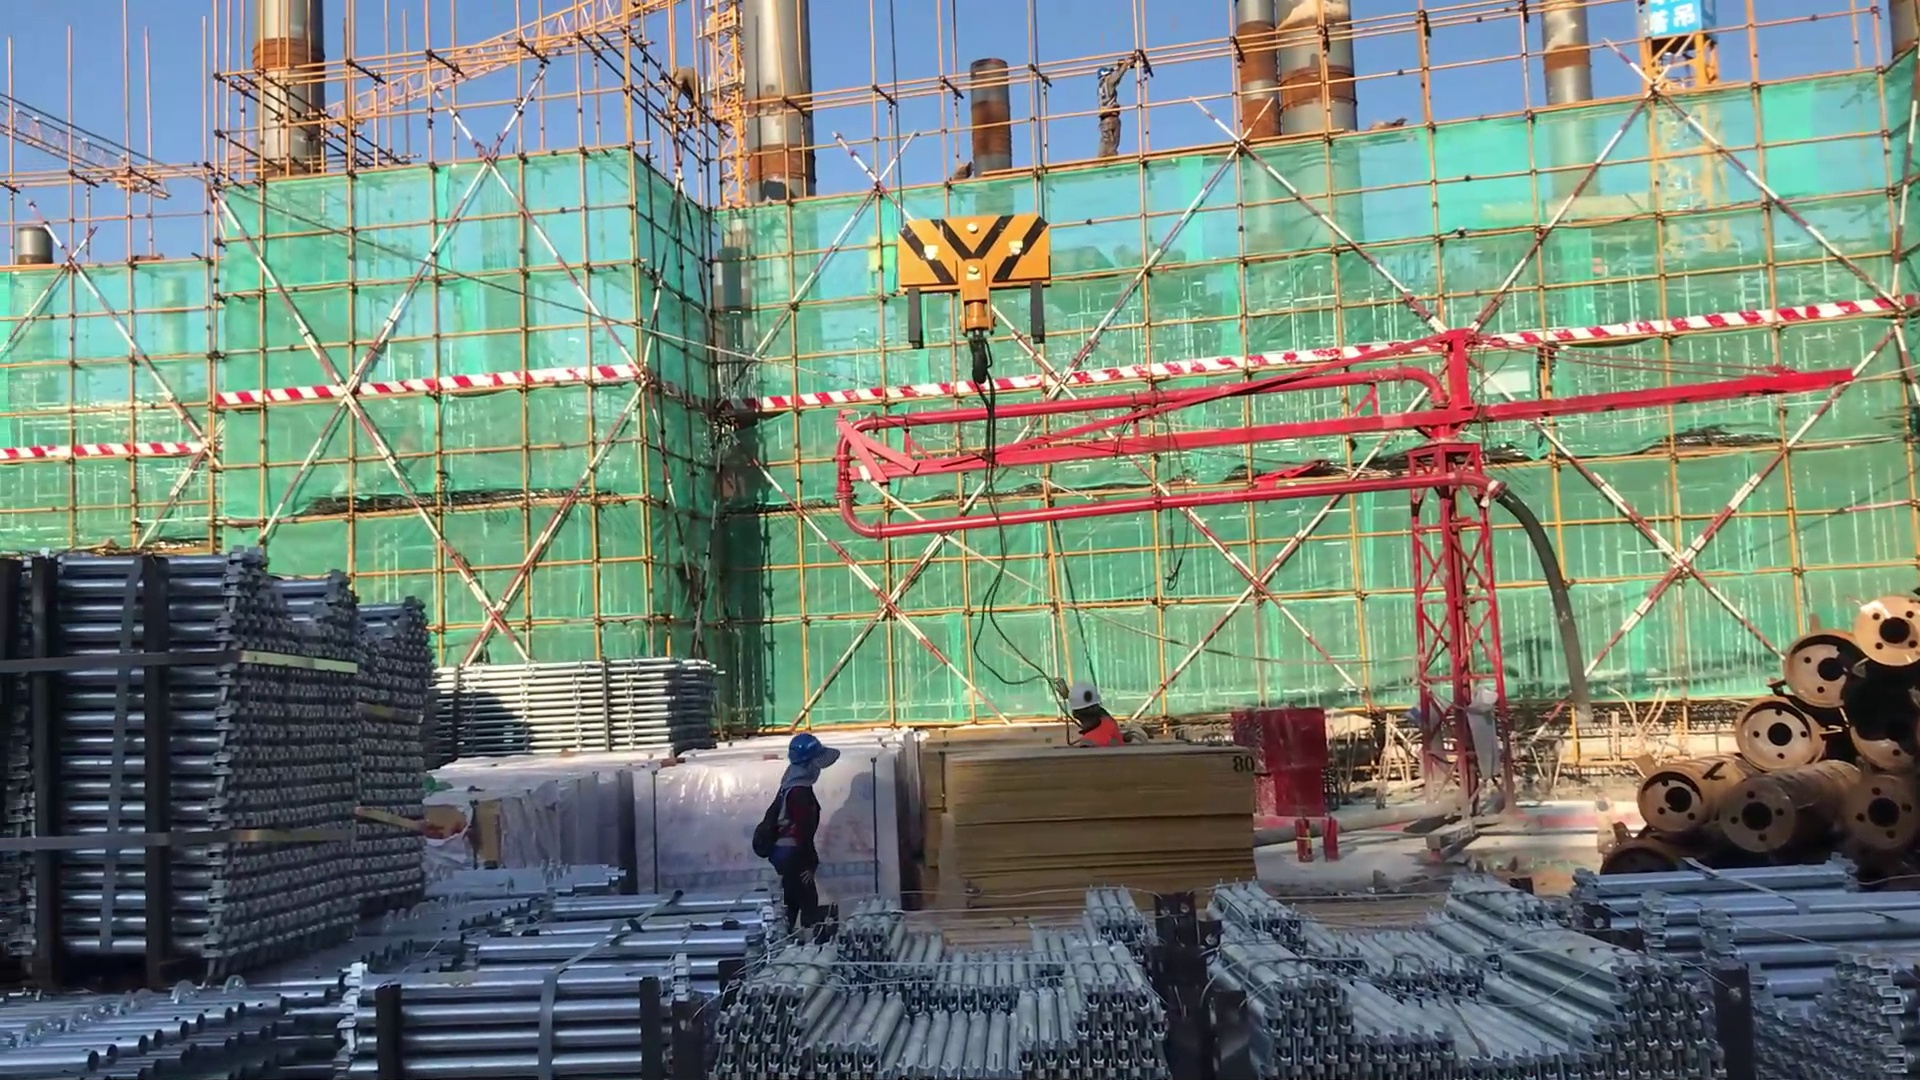board: (913, 723, 1254, 915)
helmet: (781, 727, 838, 783), (1065, 684, 1111, 736), (1094, 59, 1120, 94)
hook: (893, 213, 1070, 453)
person: (754, 722, 844, 948), (1055, 665, 1143, 772), (1099, 53, 1128, 168)
scaffold: (9, 564, 430, 996), (1198, 852, 1704, 1080), (709, 877, 1190, 1080), (1565, 856, 1920, 1077), (390, 878, 777, 1074), (1, 951, 387, 1076), (437, 651, 748, 763)
slogan: (1647, 1, 1702, 53)
vest: (758, 776, 819, 876), (1068, 713, 1138, 757), (1095, 73, 1115, 115)
